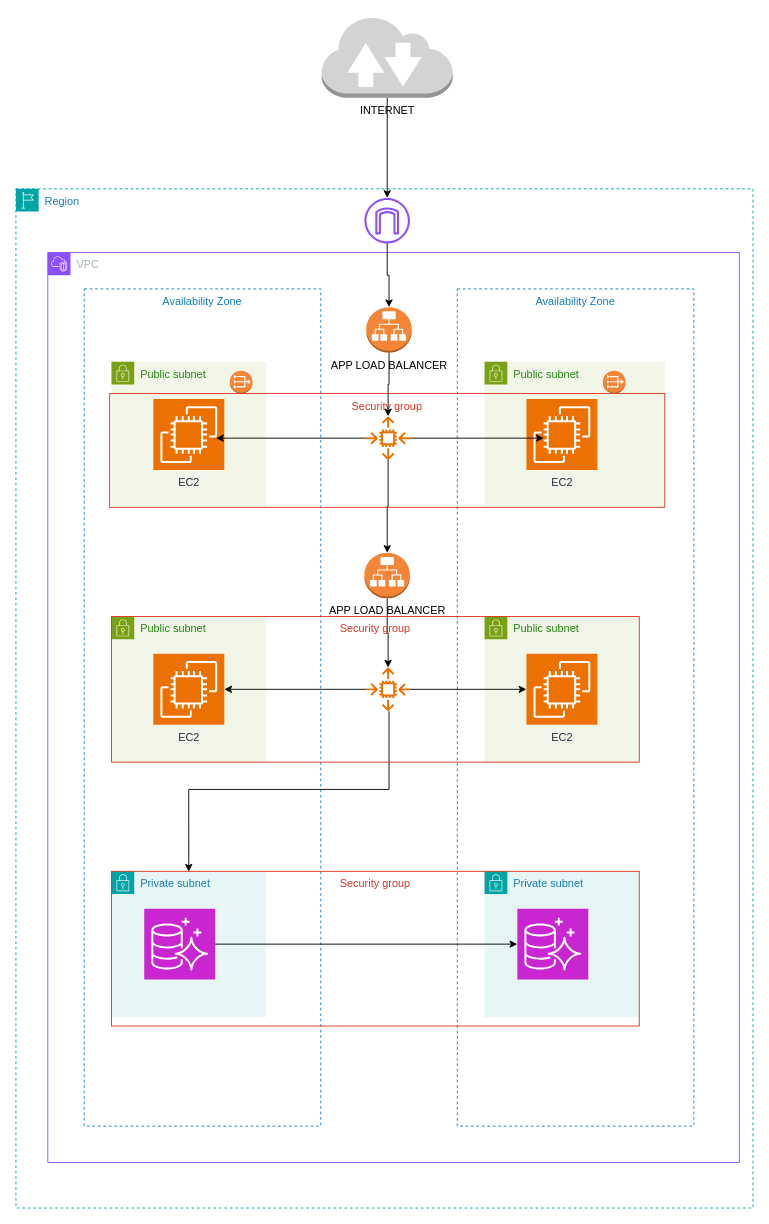
Image size: 769x1224. Some labels were removed from this diagram. The box of each missing label's shape, as (x1, y1, x2, y2) in pixels:
AUTO SCALING GROUP: (366, 667, 410, 711)
AUTSCALING GROUP: (366, 416, 410, 460)
INTERNET GATEWAY: (364, 197, 410, 243)
PRIMARY DB: (143, 908, 215, 980)
SECONDARY DB: (516, 908, 588, 980)
